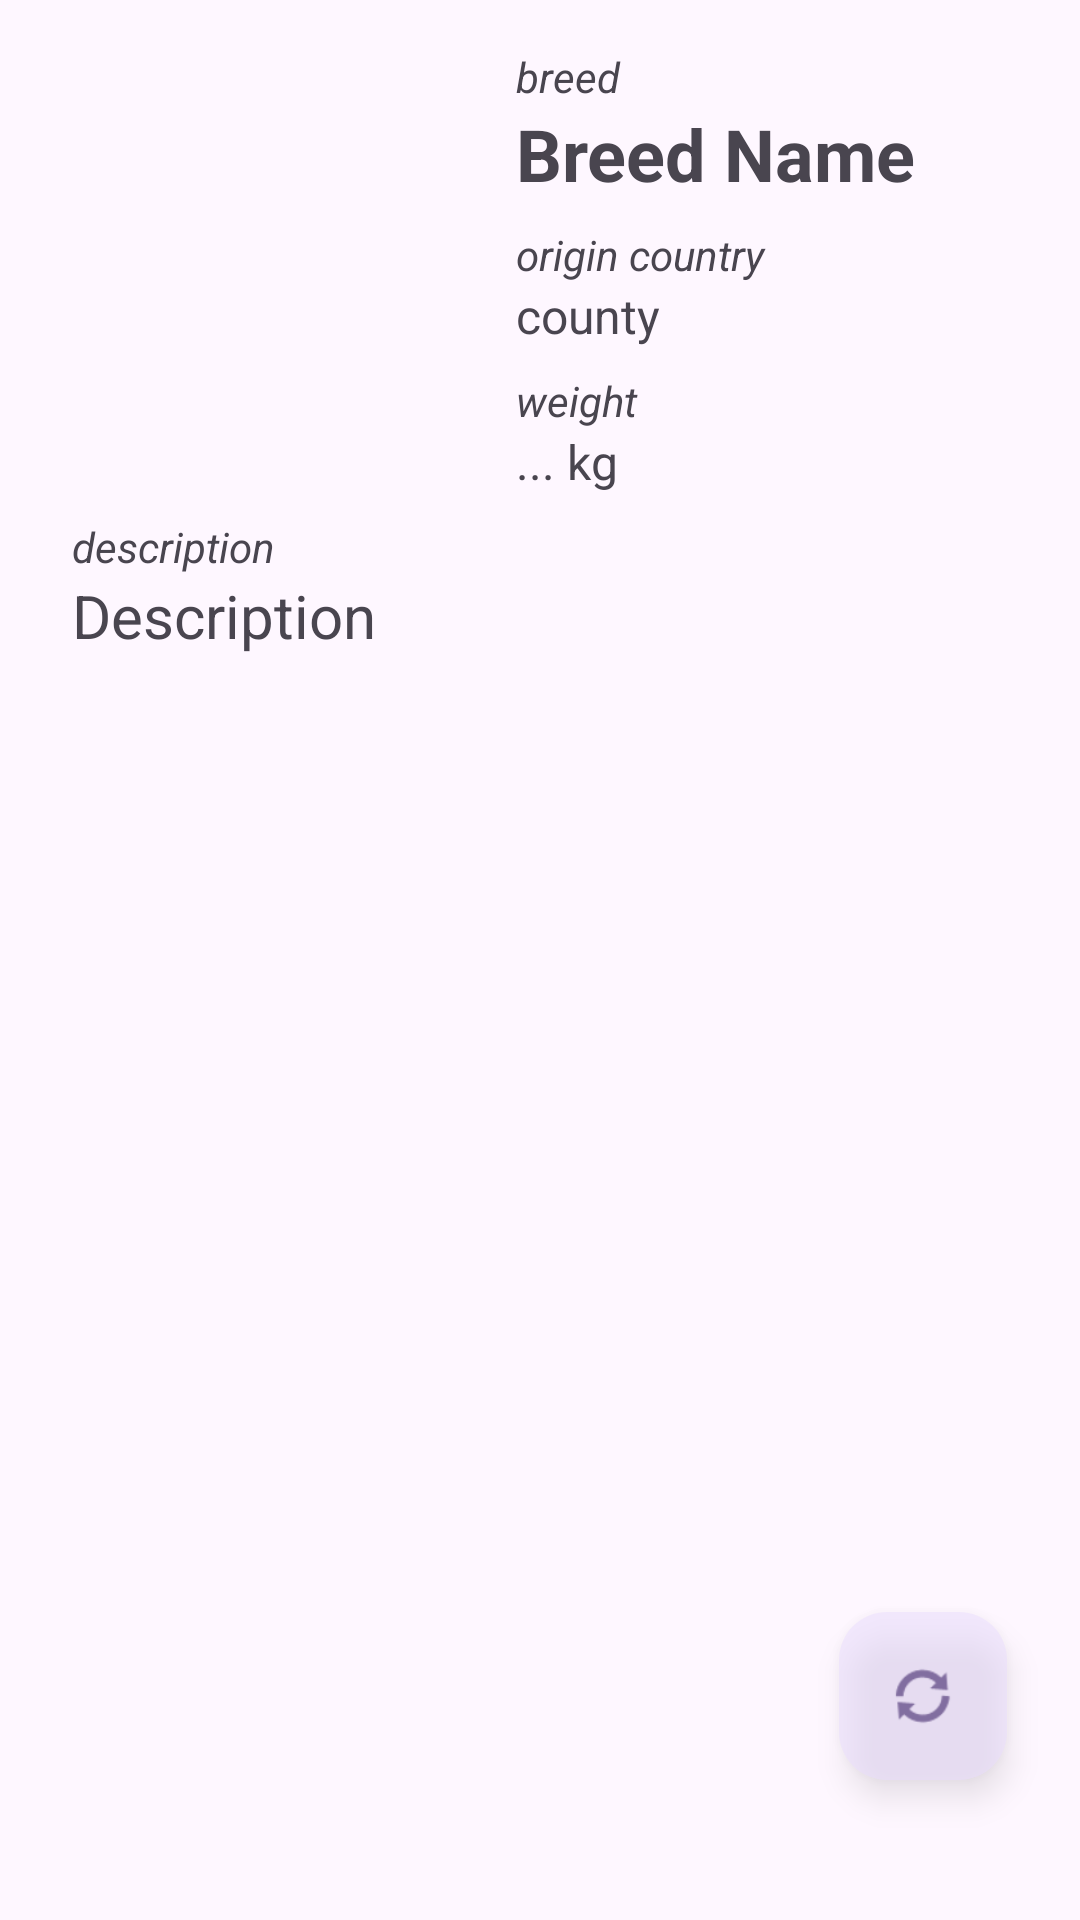

Screen size 1080x1920. Icon name, then its center in pixels as [x,y]:
refresh button: [928,1718]
